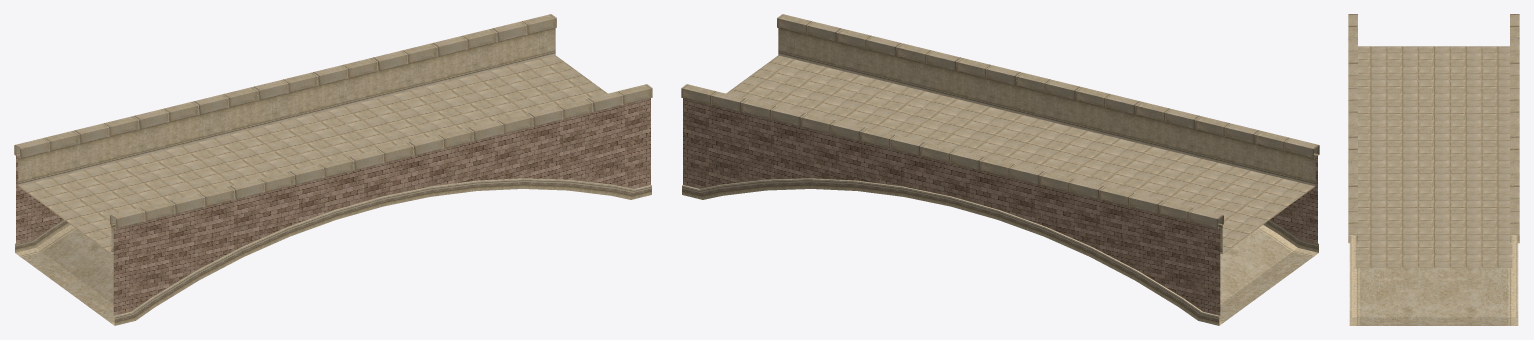
File: thm_nboo_imprv_street_bridge_s02_l0.fbx
The picture shows the model from 3 angles, left to right: view 1: azimuth 30°, elevation 25°; view 2: azimuth 150°, elevation 25°; view 3: azimuth 270°, elevation 25°; orthographic projection. The views are drawn at different scales.
Parts seen in each view (by area): view 1: mesh_node; view 2: mesh_node; view 3: mesh_node.
Boxes of the visible parts, box(x1,y1,x2,y2) form: mesh_node: box(14, 14, 652, 325); mesh_node: box(681, 14, 1319, 325); mesh_node: box(1348, 14, 1519, 325).
Bounding box in the file's own units: 16.5 × 3.15 × 5.39.
Materials: 4 (4 with a texture image).
